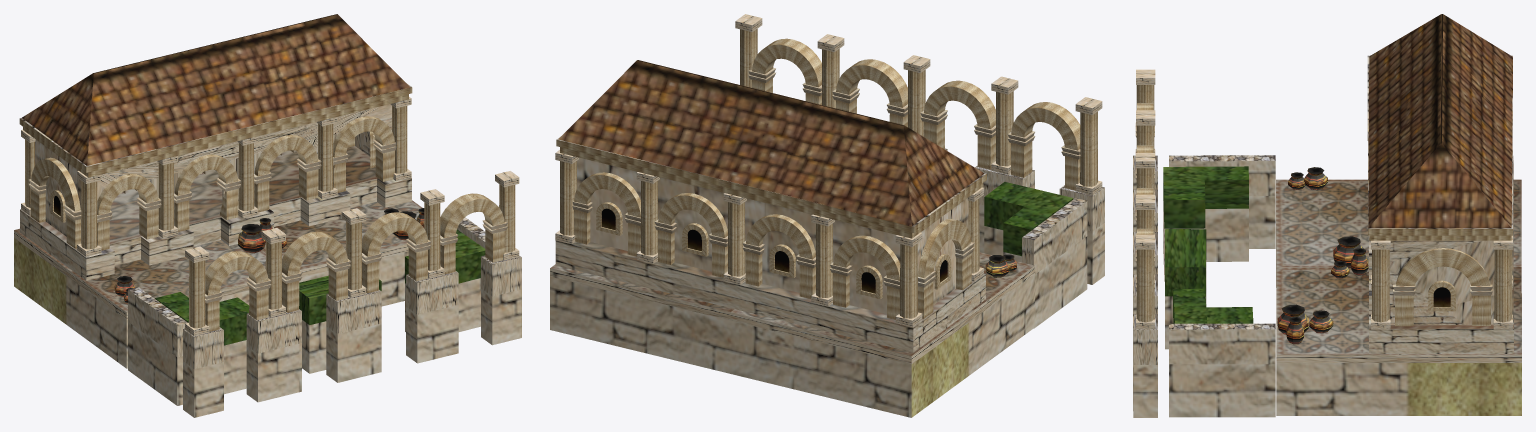
File: stoa.dae
3 views of the same model, side by side, from view 1: azimuth 30°, elevation 25°; view 2: azimuth 150°, elevation 25°; view 3: azimuth 270°, elevation 25° (orthographic). The views are drawn at different scales.
Parts seen in each view (by area): view 1: stoa; view 2: stoa; view 3: stoa.
Part boxes in pixels (box(x1,y1,x2,y2)): stoa: box(14, 14, 521, 417); stoa: box(550, 14, 1104, 417); stoa: box(1133, 14, 1521, 417).
Bounding box in the file's own units: 25.43 × 23.74 × 16.94.
